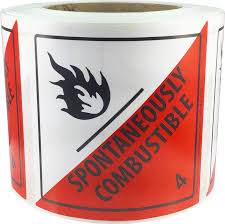SpontaneouslyCombustible: (32, 33, 203, 211)
